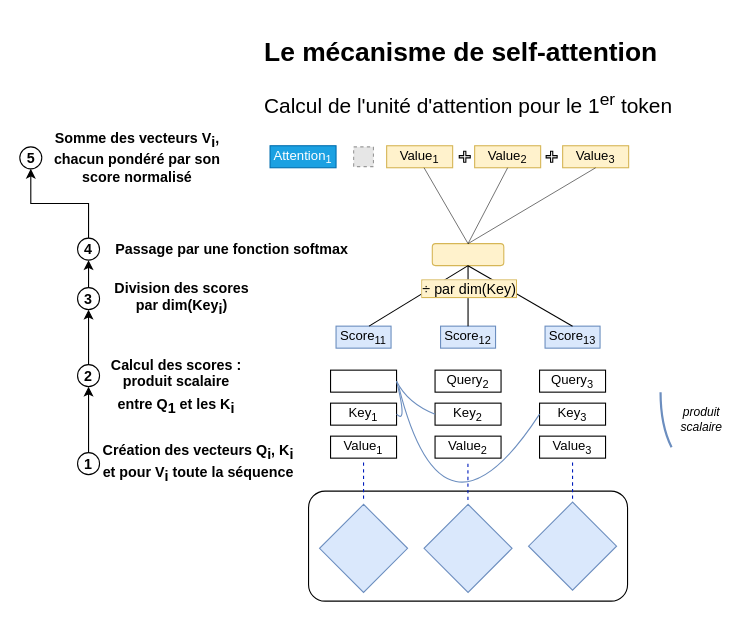
Some shapes in this 750 by 620 pixel diagram are drawn without their labels. Grey dashed boxes stand in for pictures. The box of each missing label's shape, as (x1, y1, x2, y2) in pixels:
E 1: (318, 503, 408, 592)
E 2: (423, 503, 512, 592)
E 3: (527, 501, 617, 590)
Query 1: (329, 369, 397, 392)
Softmax: (431, 243, 504, 266)
